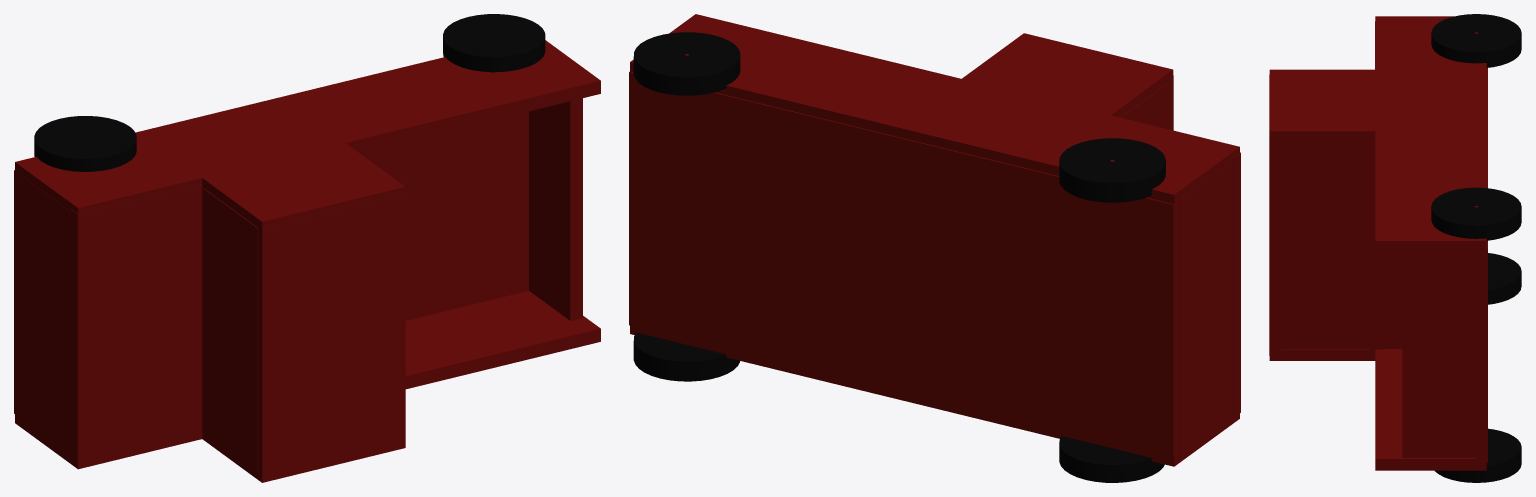
3 renders of one model, left to right at view 1: azimuth 30°, elevation 25°; view 2: azimuth 150°, elevation 25°; view 3: azimuth 270°, elevation 25°, orthographic. The views are drawn at different scales.
Visible parts, largest first — view 1: Cube; view 2: Cube; view 3: Cube.
Boxes of the visible parts, x1,y1,x2,y2 form: Cube: (14,14,600,482); Cube: (629,14,1240,482); Cube: (1269,14,1521,482).
Bounding box in the file's own units: 4.83 × 2.58 × 2.29.
